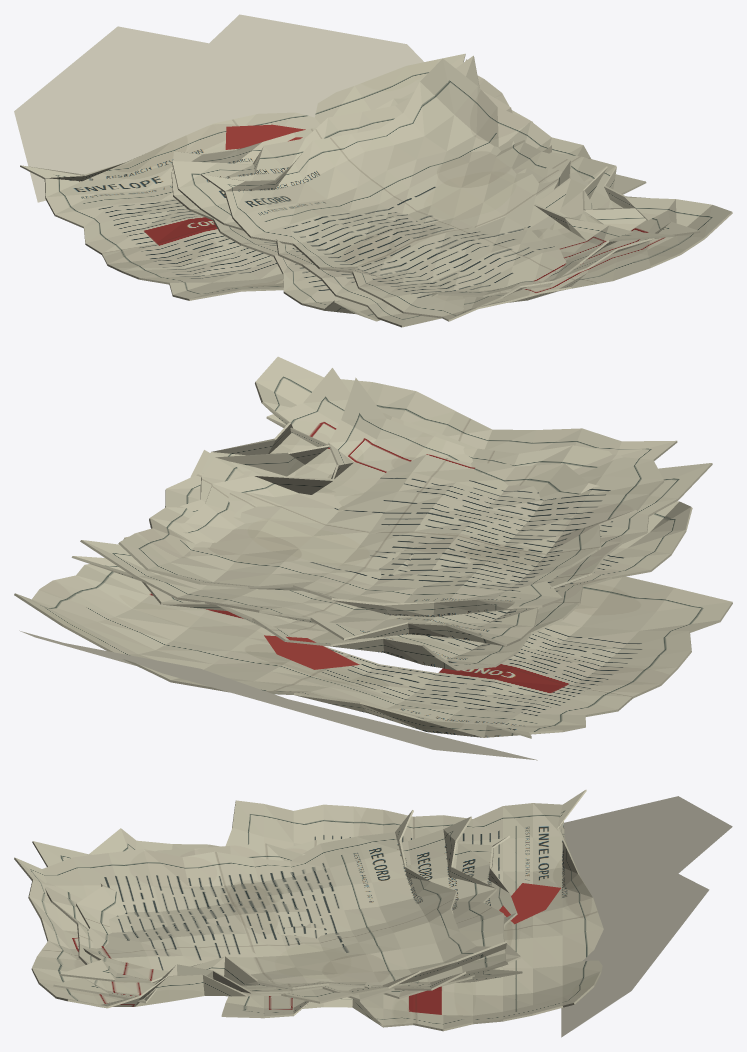
File: DS_Clue_Envelope_Damaged_V02.fbx
3 renders of one model, top to bottom at view 1: azimuth 30°, elevation 25°; view 2: azimuth 150°, elevation 25°; view 3: azimuth 270°, elevation 25°, orthographic. The views are drawn at different scales.
Visible parts, largest first — view 1: DS_Clue_Envelope_Damaged_V02; view 2: DS_Clue_Envelope_Damaged_V02; view 3: DS_Clue_Envelope_Damaged_V02.
Boxes of the visible parts, x1,y1,x2,y2 form: DS_Clue_Envelope_Damaged_V02: (14, 14, 732, 327); DS_Clue_Envelope_Damaged_V02: (14, 356, 732, 760); DS_Clue_Envelope_Damaged_V02: (14, 789, 732, 1037).
Size of the model in its own units: 72.85 by 12.55 by 92.21.
4 materials, 2 textured.
